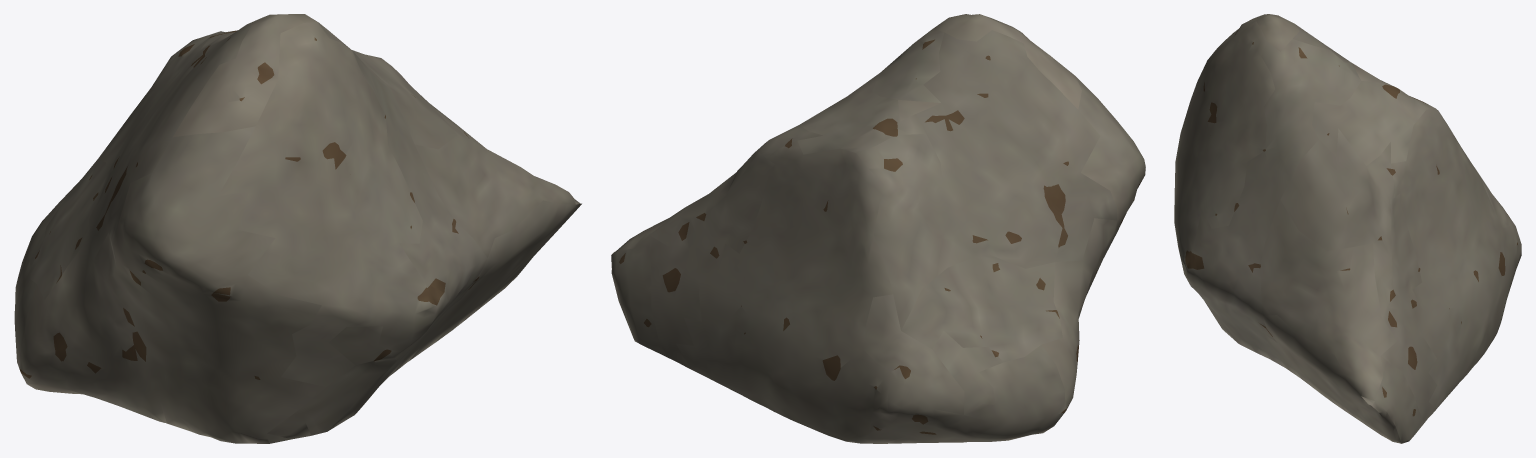
Rendered from corealm_ore_grithe.glb.
3 views of the same model, side by side, from view 1: azimuth 30°, elevation 25°; view 2: azimuth 150°, elevation 25°; view 3: azimuth 270°, elevation 25° (orthographic). The views are drawn at different scales.
Visible parts, largest first — view 1: corealm_ore_grithe; view 2: corealm_ore_grithe; view 3: corealm_ore_grithe.
Part boxes in pixels (left/top/right/bottom): corealm_ore_grithe: left=14, top=14, right=581, bottom=443; corealm_ore_grithe: left=611, top=14, right=1145, bottom=443; corealm_ore_grithe: left=1174, top=14, right=1521, bottom=443.
Size of the model in its own units: 2.6 by 1.8 by 1.85.
Materials: 2 (2 with a texture image).
